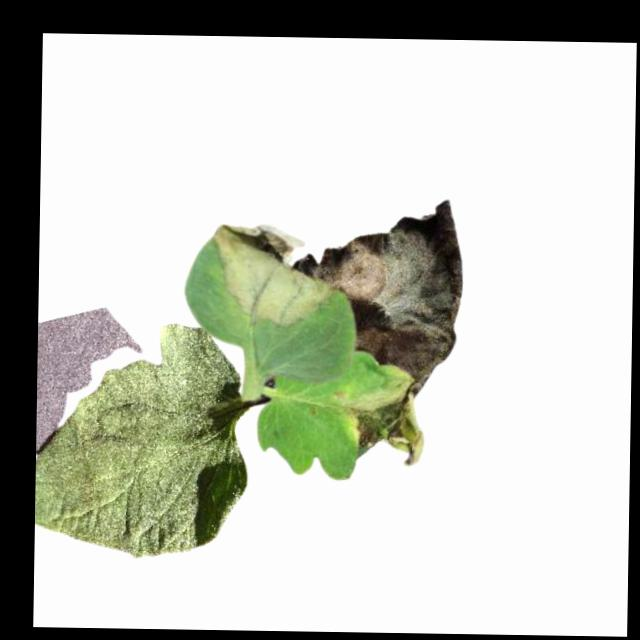Late_blight: (289, 195, 465, 400), (209, 217, 335, 327), (354, 379, 423, 467)
healthy: (36, 322, 250, 560)
